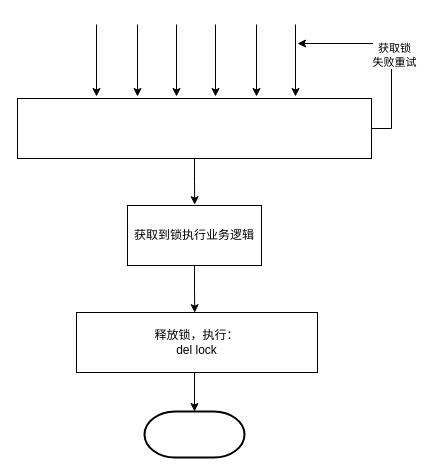
This 433x476 diagram has some shape labels left out. Here are the shapes that lost their labels. From the top down, the box of each, then its label:
(16, 98, 372, 158): 多个线程同时执行 setnx lock xxx 只有一个可以执行成功
(143, 410, 245, 458): 结束
